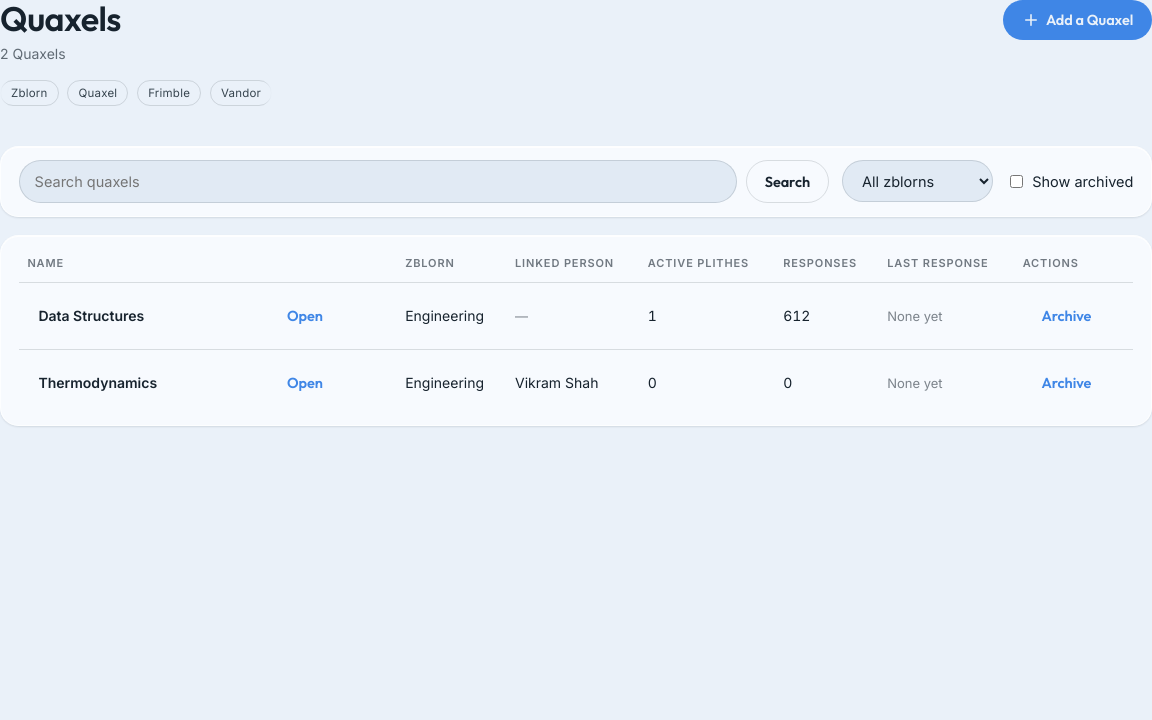
Test case: archiving states what is KEPT › names the responses that survive
Click the button "Archive" in the row of "612".
click(1066, 316)  # box [1023,296,1110,336]
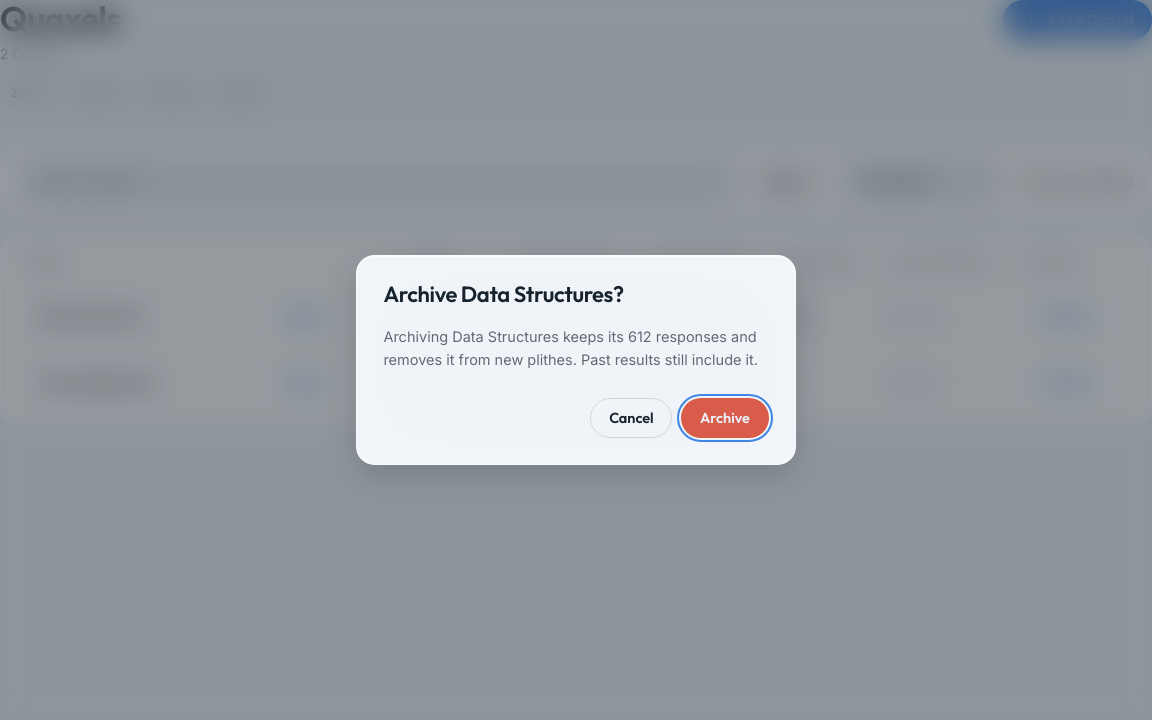
Expected: the dialog shows "keeps its 612 responses and removes it from new plithes", [383,328,758,368]
